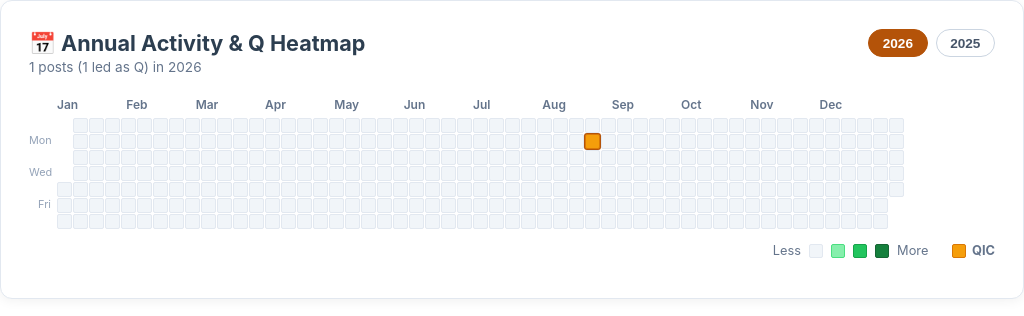
Test: ActivityHeatmap Component › switches year when year button is clicked
Click the tab "2025": (965, 43) [936,29,995,57]
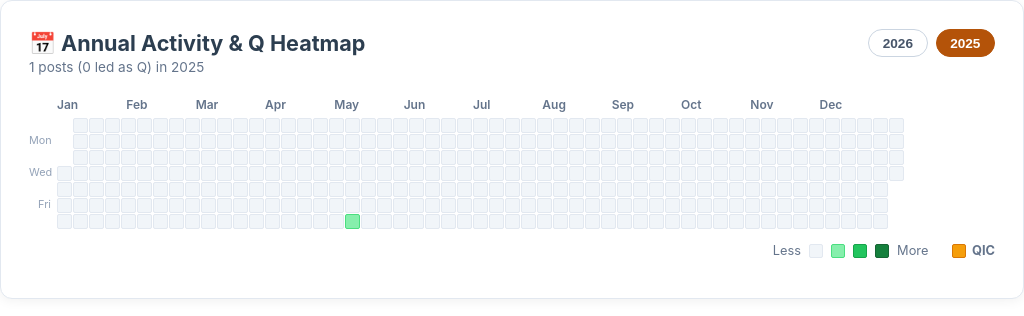
Expected: the text "1 posts (0 led as Q) in 2025" is shown, [29,59,204,75]
